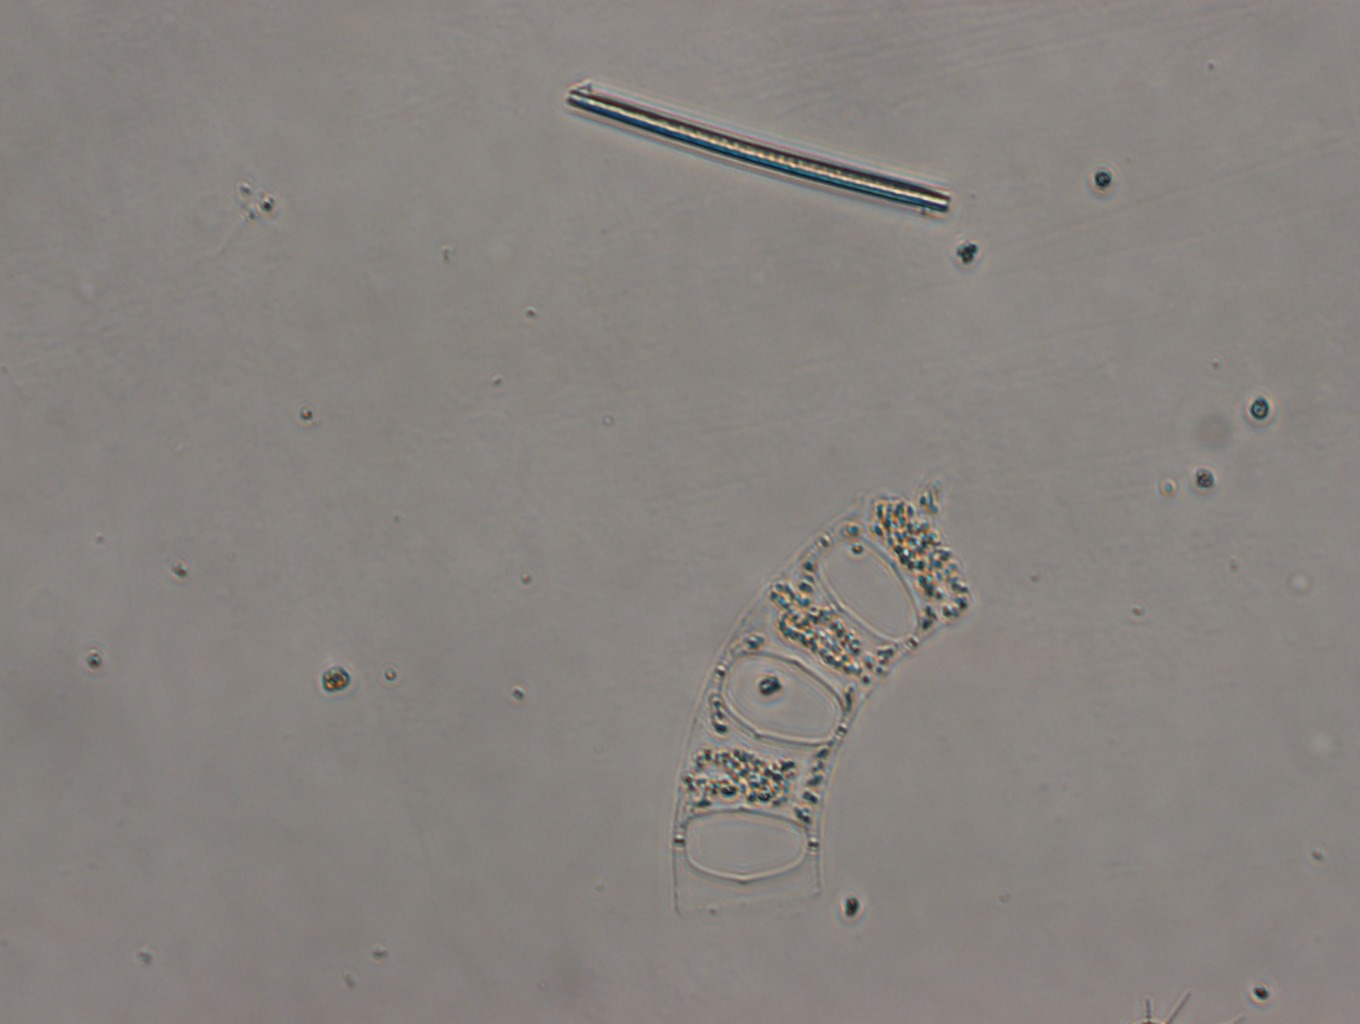eucampia: (671, 483, 979, 928)
thalassionema frauenfeldii: (562, 85, 950, 217)
